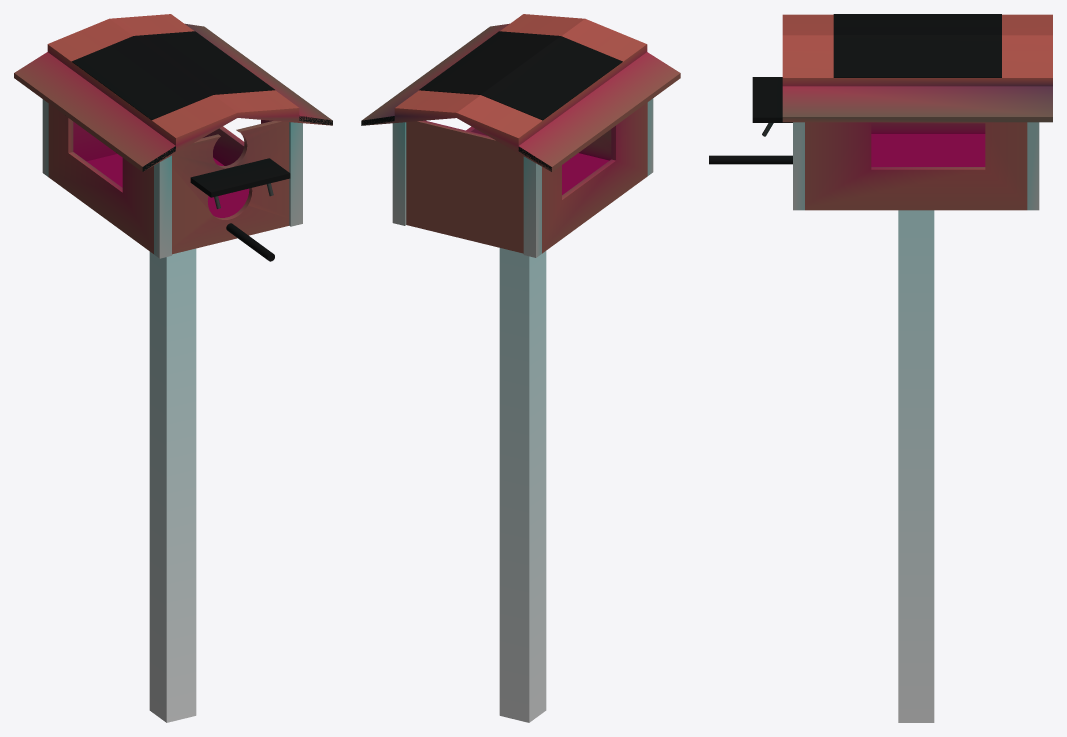
The picture shows the model from 3 angles, left to right: view 1: azimuth 30°, elevation 25°; view 2: azimuth 150°, elevation 25°; view 3: azimuth 270°, elevation 25°; orthographic projection. The views are drawn at different scales.
Visible parts, largest first — view 1: post, walls, roof, dark_centre, hood, corner_strips.001, corner_strips.002, corner_strips.003, perch; view 2: post, walls, roof, dark_centre, corner_strips.003, corner_strips.004, corner_strips.001; view 3: walls, post, roof, dark_centre, hood, corner_strips.004, corner_strips.002, perch.
Boxes of the visible parts, bbox=[...] form: post: bbox=[149, 248, 196, 722]; walls: bbox=[48, 104, 289, 254]; roof: bbox=[14, 14, 332, 171]; dark_centre: bbox=[71, 31, 274, 120]; hood: bbox=[190, 158, 290, 197]; corner_strips.001: bbox=[154, 155, 171, 258]; corner_strips.002: bbox=[289, 122, 302, 226]; corner_strips.003: bbox=[42, 99, 48, 176]; perch: bbox=[226, 223, 274, 261]; post: bbox=[499, 248, 546, 722]; walls: bbox=[406, 102, 647, 253]; roof: bbox=[361, 14, 680, 171]; dark_centre: bbox=[419, 31, 622, 120]; corner_strips.003: bbox=[523, 156, 541, 257]; corner_strips.004: bbox=[392, 122, 406, 225]; corner_strips.001: bbox=[647, 98, 653, 175]; walls: bbox=[805, 122, 1027, 210]; post: bbox=[898, 210, 934, 722]; roof: bbox=[782, 14, 1052, 122]; dark_centre: bbox=[833, 14, 1001, 77]; hood: bbox=[752, 77, 792, 122]; corner_strips.004: bbox=[1027, 122, 1039, 210]; corner_strips.002: bbox=[793, 122, 804, 210]; perch: bbox=[709, 155, 792, 164].
Size of the model in its own units: 0.077 by 0.2502 by 0.1145.
